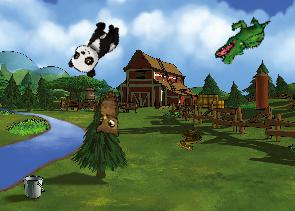crocodile: (212, 5, 272, 74)
owl: (87, 89, 124, 140)
panda: (65, 14, 125, 81)
